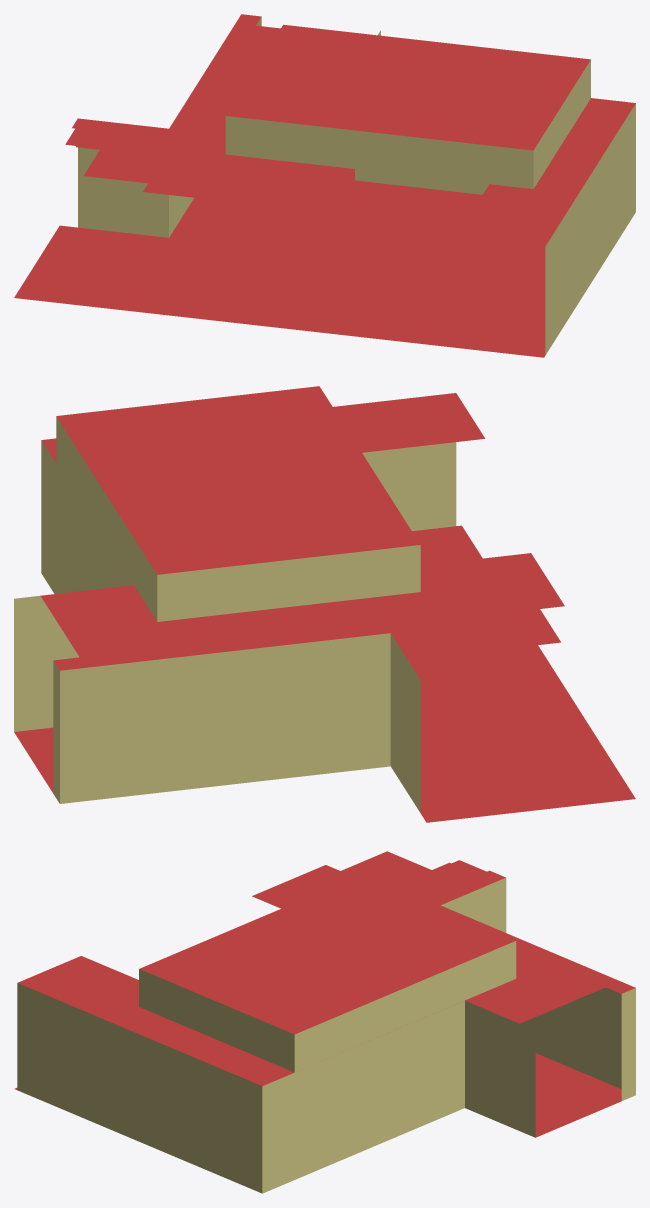
3 views of the same model, one above another, from view 1: azimuth 30°, elevation 25°; view 2: azimuth 150°, elevation 25°; view 3: azimuth 270°, elevation 25° (orthographic). The views are drawn at different scales.
Visible parts, largest first — view 1: group_7, group_4, group_3, group_6, group_5; view 2: group_6, group_4, group_3, group_7, group_5; view 3: group_6, group_4, group_3, group_5, group_7.
Part boxes in pixels (x1=…): group_7: x1=14, y1=160, x2=545, y2=357; group_4: x1=226, y1=24, x2=590, y2=150; group_3: x1=65, y1=14, x2=635, y2=246; group_6: x1=78, y1=17, x2=635, y2=355; group_5: x1=225, y1=60, x2=590, y2=188; group_6: x1=14, y1=440, x2=456, y2=812; group_4: x1=56, y1=386, x2=420, y2=574; group_3: x1=40, y1=393, x2=564, y2=679; group_7: x1=14, y1=525, x2=635, y2=822; group_5: x1=56, y1=417, x2=420, y2=621; group_6: x1=17, y1=878, x2=635, y2=1193; group_4: x1=139, y1=875, x2=515, y2=1034; group_3: x1=17, y1=851, x2=635, y2=1085; group_5: x1=139, y1=941, x2=516, y2=1072; group_7: x1=14, y1=1053, x2=621, y2=1137.
Size of the model in its own units: 46.72 by 46.11 by 11.9.
